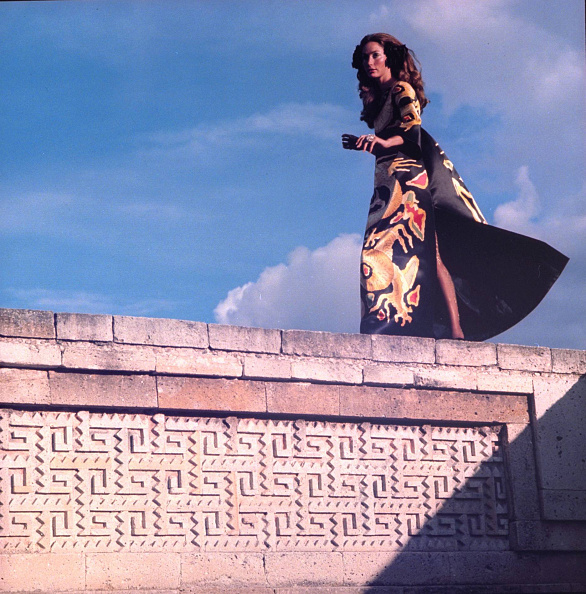em pe: (318, 28, 508, 319)
